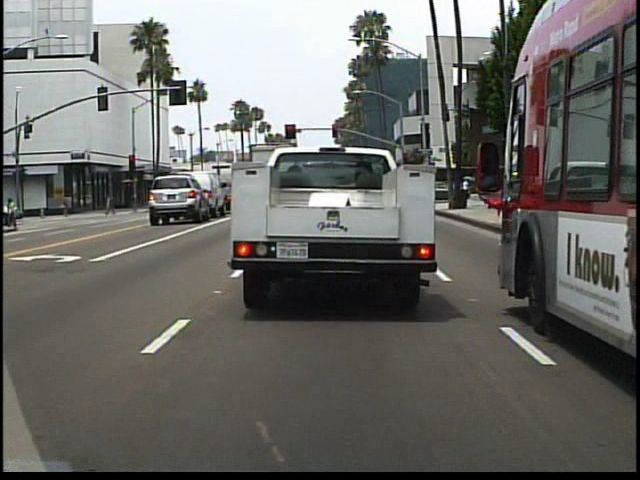person: (63, 191, 74, 218)
